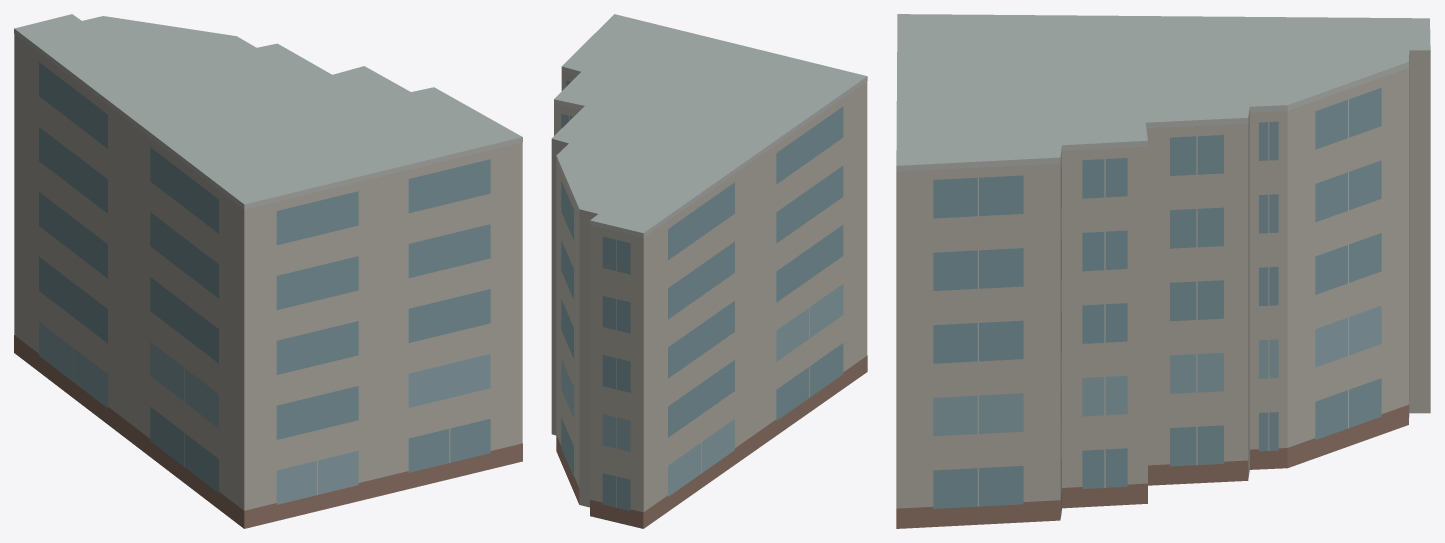
The model's file is survey-upis-32940965.glb.
3 renders of one model, left to right at view 1: azimuth 30°, elevation 25°; view 2: azimuth 150°, elevation 25°; view 3: azimuth 270°, elevation 25°, orthographic. The views are drawn at different scales.
Parts seen in each view (by area): view 1: survey-upis-32940965.tmp; view 2: survey-upis-32940965.tmp; view 3: survey-upis-32940965.tmp.
Part boxes in pixels (x1,y1,x2,y2): survey-upis-32940965.tmp: (14,14,522,528); survey-upis-32940965.tmp: (551,14,867,528); survey-upis-32940965.tmp: (896,14,1430,528).
Size of the model in its own units: 13.69 by 15.25 by 20.35.
